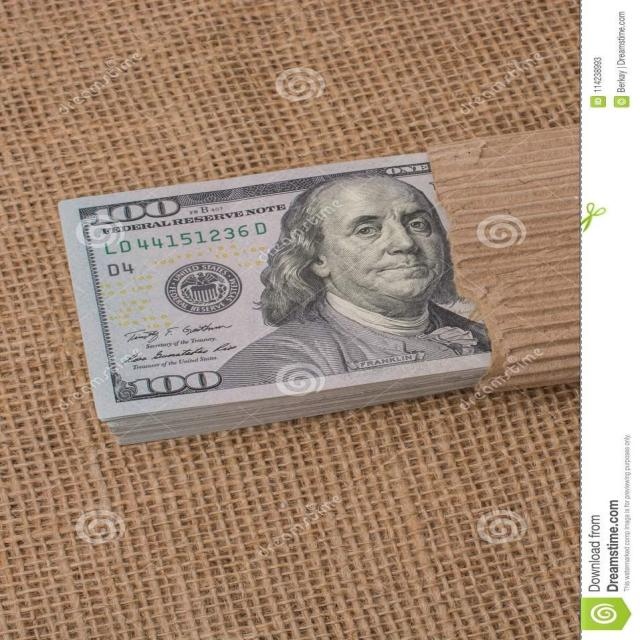100-Front: (49, 144, 634, 425)
